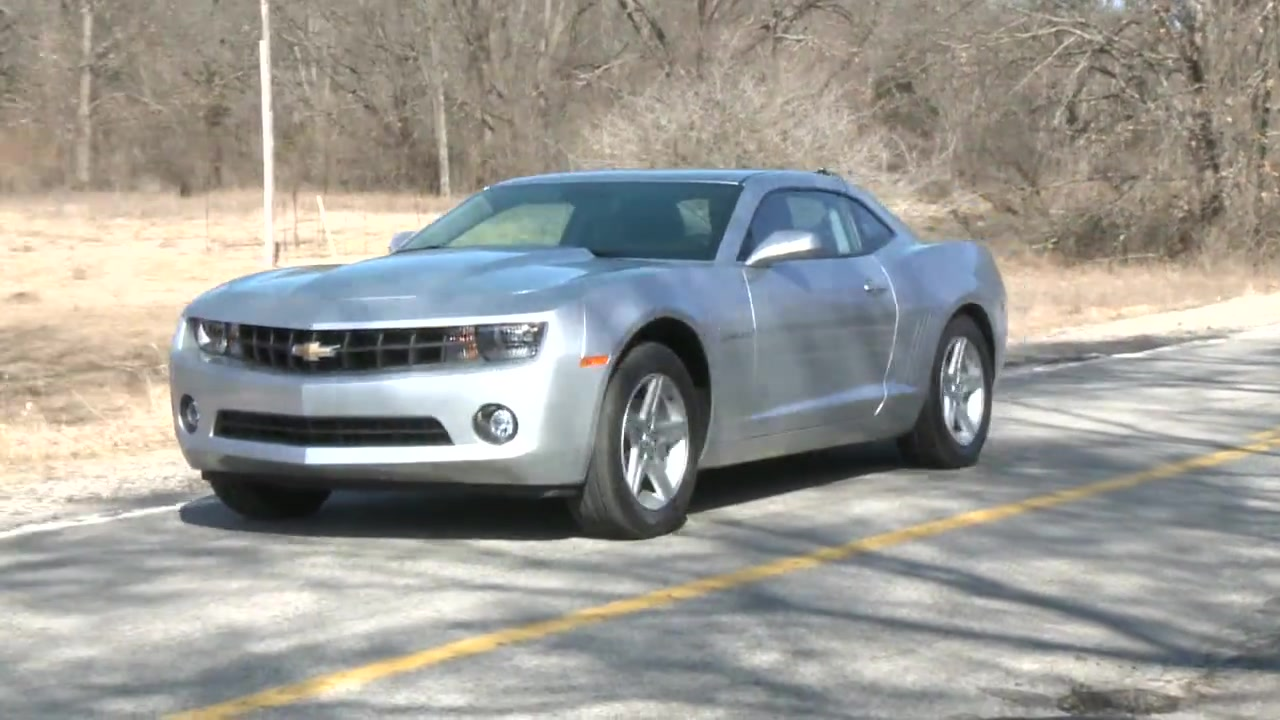car: (167, 172, 1013, 537)
